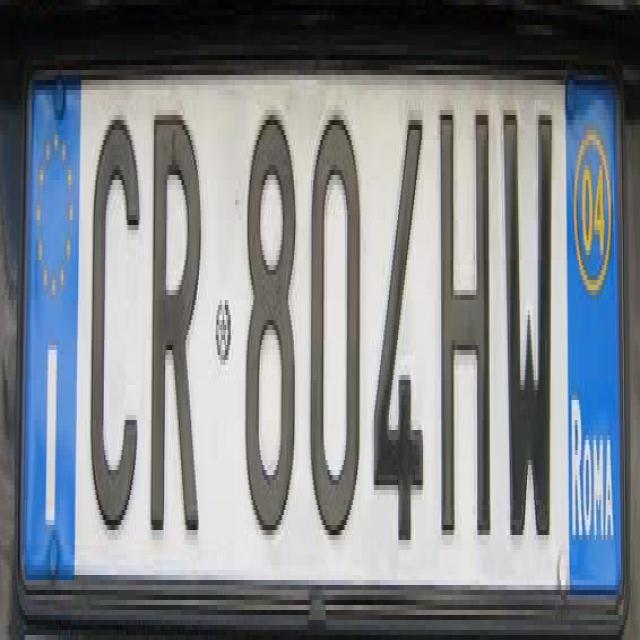EU: (23, 72, 625, 598)
Italie: (28, 82, 76, 570)
